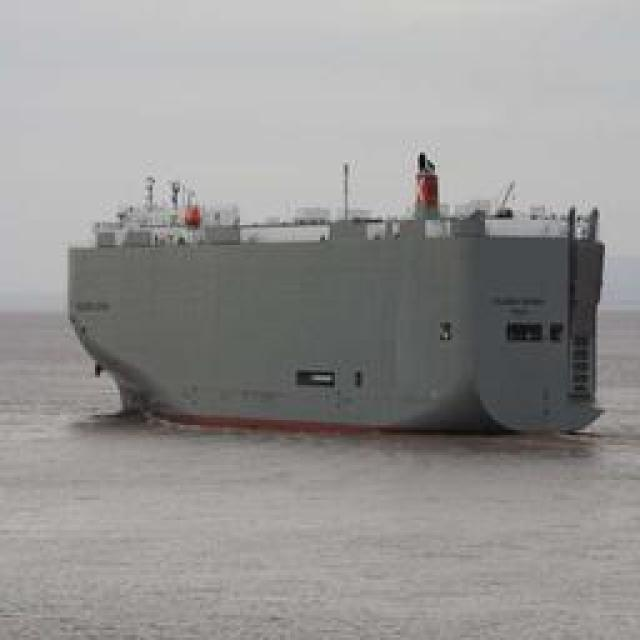CIV_Ship: (75, 181, 608, 441)
